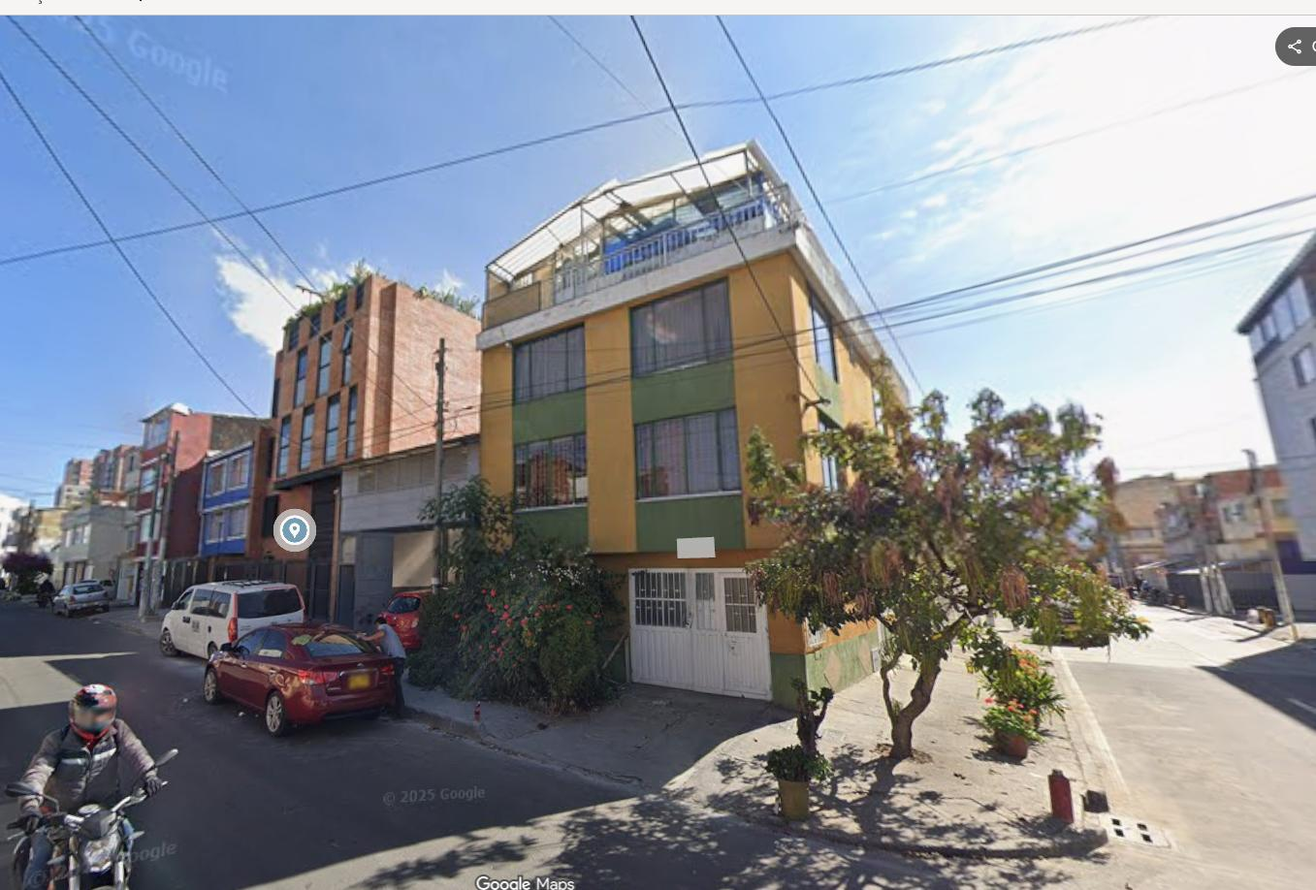casa: (477, 141, 884, 698), (256, 273, 477, 564), (198, 436, 259, 557)
poste: (1245, 449, 1299, 640), (433, 338, 446, 503), (431, 513, 446, 592)
